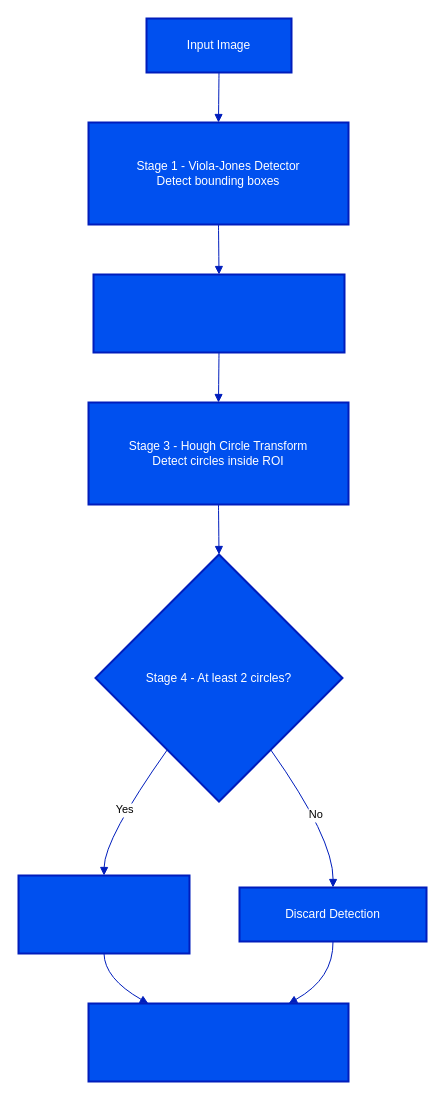
Some shapes in this 444 by 1099 pixel diagram are drawn without their labels. The shapes that lost their labels are listed below. From the top down, each one's centre as x and y in pixels, then its label:
At point (218, 313): "Stage 2 - ROI Extraction Crop each detected region".
At point (103, 914): "Keep Detection Valid Dartboard".
At point (218, 1042): "Final Output Set of Detections".
